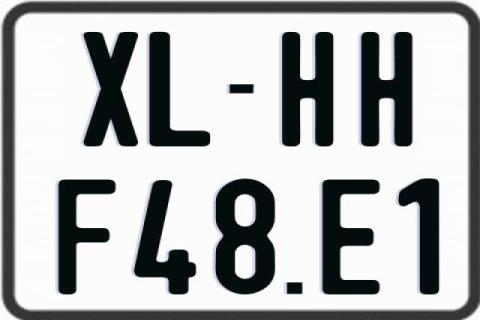0: (215, 176, 280, 297), (134, 178, 198, 296), (397, 178, 443, 294)
E: (321, 178, 379, 296)
F: (58, 179, 122, 295)
H: (359, 30, 413, 146), (281, 31, 333, 146)
L: (148, 30, 209, 148)
X: (80, 30, 141, 146)
